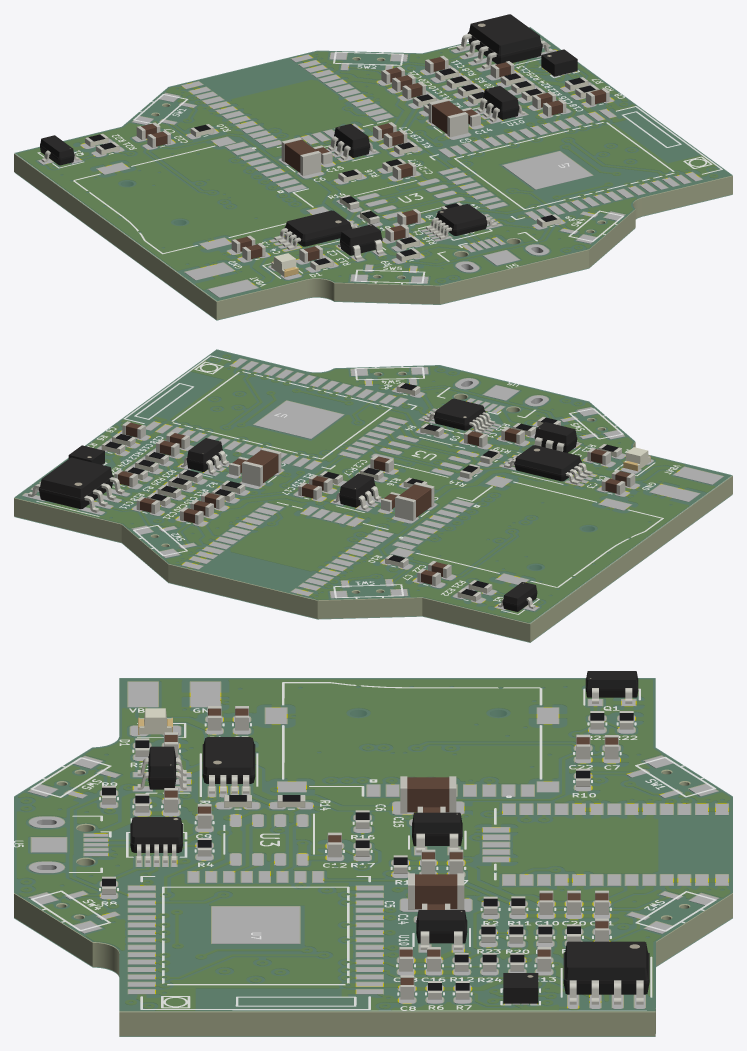
File: board.glb
3 renders of one model, top to bottom at view 1: azimuth 30°, elevation 25°; view 2: azimuth 150°, elevation 25°; view 3: azimuth 270°, elevation 25°, orthographic. The views are drawn at different scales.
Parts seen in each view (by area): view 1: board_soldermask (×2), board_copper, board_PCB, board_pad, board_silkscreen, SOT-23-5 (×3), SOIC-8_3.9x4.9mm_P1.27mm, C_1206_3216Metric (×2), TSSOP-8_4.4x3mm_P0.65mm, MSOP-10_3x3mm_P0.5mm, SOT-23, LGA_12_2x2mm_P05mm; view 2: board_soldermask (×2), board_copper, board_PCB, board_pad, board_silkscreen, SOT-23-5 (×3), SOIC-8_3.9x4.9mm_P1.27mm, C_1206_3216Metric (×2), TSSOP-8_4.4x3mm_P0.65mm, MSOP-10_3x3mm_P0.5mm, SOT-23, LED_0805_2012Metric; view 3: board_soldermask (×2), board_copper, board_PCB, board_pad, board_silkscreen, SOT-23-5 (×3), SOIC-8_3.9x4.9mm_P1.27mm, C_1206_3216Metric (×2), TSSOP-8_4.4x3mm_P0.65mm, MSOP-10_3x3mm_P0.5mm, SOT-23, LGA_12_2x2mm_P05mm (+1 smaller).
Boxes of the visible parts, x1=… form: board_soldermask (×2): x1=14, y1=27, x2=732, y2=320; board_copper: x1=18, y1=44, x2=717, y2=289; board_PCB: x1=14, y1=35, x2=732, y2=319; board_pad: x1=38, y1=39, x2=702, y2=297; board_silkscreen: x1=15, y1=27, x2=731, y2=300; SOT-23-5 (×3): x1=328, y1=86, x2=524, y2=259; SOIC-8_3.9x4.9mm_P1.27mm: x1=456, y1=14, x2=553, y2=69; C_1206_3216Metric (×2): x1=281, y1=98, x2=468, y2=176; TSSOP-8_4.4x3mm_P0.65mm: x1=274, y1=210, x2=358, y2=249; MSOP-10_3x3mm_P0.5mm: x1=426, y1=204, x2=497, y2=239; SOT-23: x1=40, y1=135, x2=79, y2=165; LGA_12_2x2mm_P05mm: x1=541, y1=49, x2=577, y2=76; board_soldermask (×2): x1=14, y1=349, x2=732, y2=642; board_copper: x1=41, y1=355, x2=714, y2=621; board_PCB: x1=14, y1=350, x2=732, y2=642; board_pad: x1=23, y1=358, x2=723, y2=611; board_silkscreen: x1=15, y1=349, x2=732, y2=622; SOT-23-5 (×3): x1=181, y1=422, x2=578, y2=509; SOIC-8_3.9x4.9mm_P1.27mm: x1=28, y1=457, x2=124, y2=512; C_1206_3216Metric (×2): x1=242, y1=447, x2=434, y2=520; TSSOP-8_4.4x3mm_P0.65mm: x1=504, y1=445, x2=592, y2=484; MSOP-10_3x3mm_P0.5mm: x1=424, y1=398, x2=495, y2=433; SOT-23: x1=498, y1=582, x2=537, y2=611; LED_0805_2012Metric: x1=623, y1=447, x2=650, y2=471; board_soldermask (×2): x1=14, y1=678, x2=732, y2=1036; board_copper: x1=17, y1=680, x2=729, y2=1010; board_PCB: x1=14, y1=679, x2=732, y2=1036; board_pad: x1=28, y1=682, x2=728, y2=1008; board_silkscreen: x1=14, y1=682, x2=716, y2=1010; SOT-23-5 (×3): x1=137, y1=746, x2=467, y2=949; SOIC-8_3.9x4.9mm_P1.27mm: x1=563, y1=941, x2=649, y2=1004; C_1206_3216Metric (×2): x1=400, y1=776, x2=464, y2=910; TSSOP-8_4.4x3mm_P0.65mm: x1=202, y1=737, x2=255, y2=793; MSOP-10_3x3mm_P0.5mm: x1=130, y1=817, x2=182, y2=862; SOT-23: x1=585, y1=671, x2=638, y2=703; LGA_12_2x2mm_P05mm: x1=503, y1=973, x2=538, y2=1003.
Bounding box in the file's own units: 0.045 × 0.00378 × 0.041.
